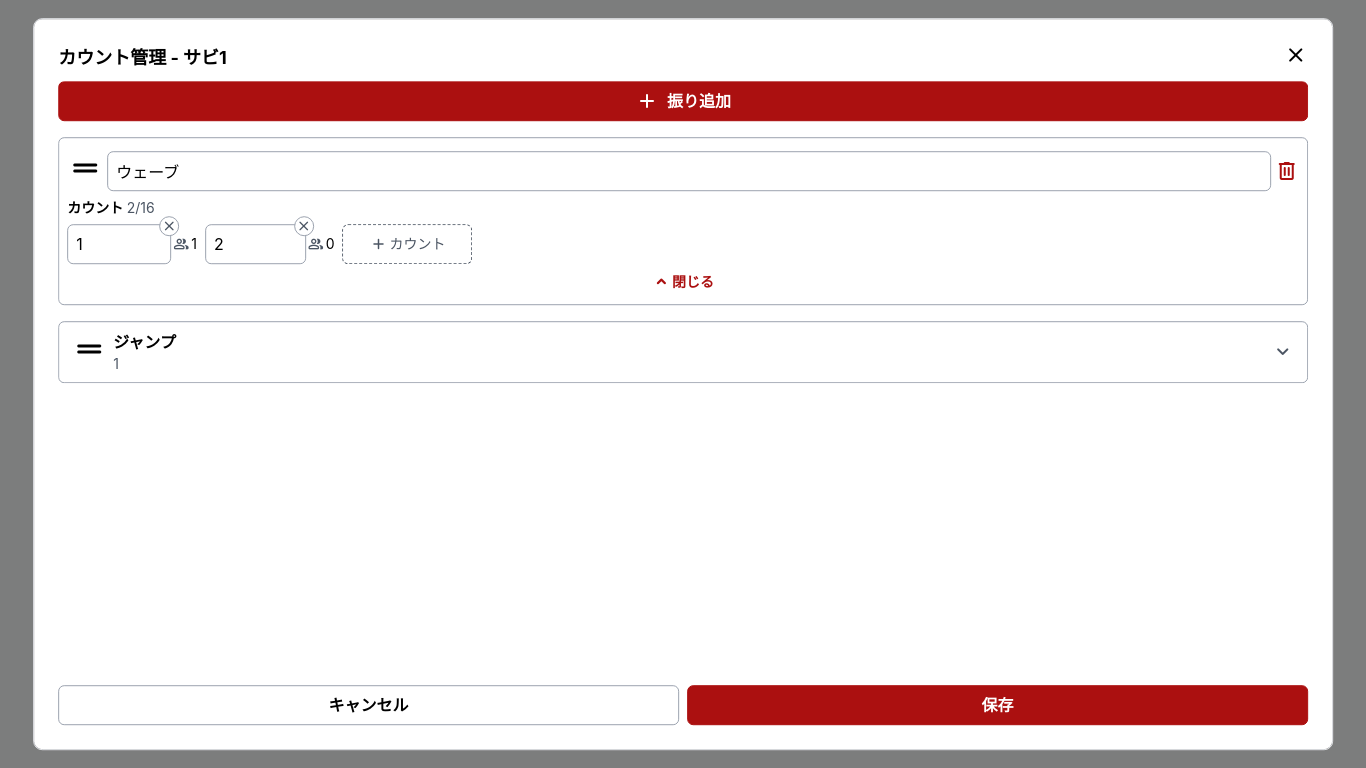
it: ActionManagerDialog count patterns › fills the counts from a pattern, and the patterns go away
Click the button "振り追加" at (683, 101), box [58,81,1308,121]
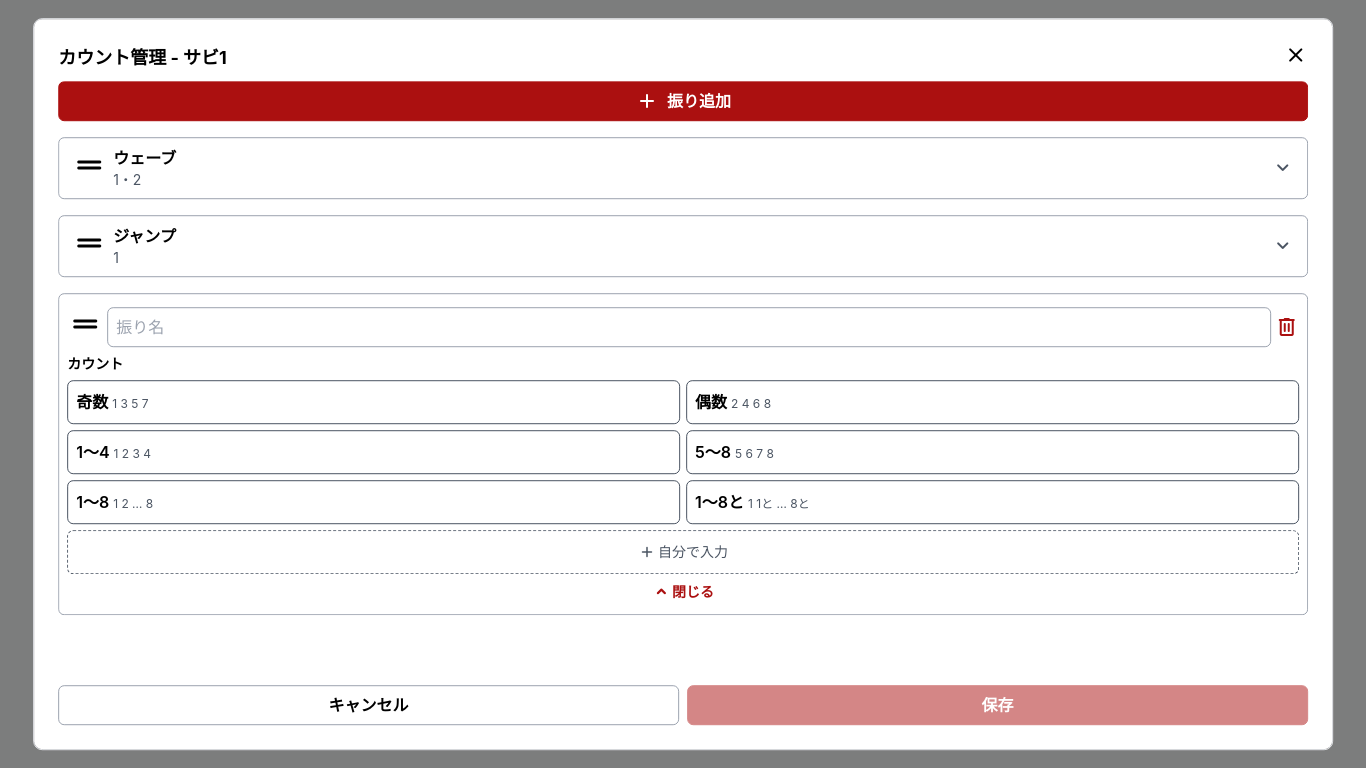
Click the button with aria-label "奇数:" at (92, 402), box [67,380,680,424]
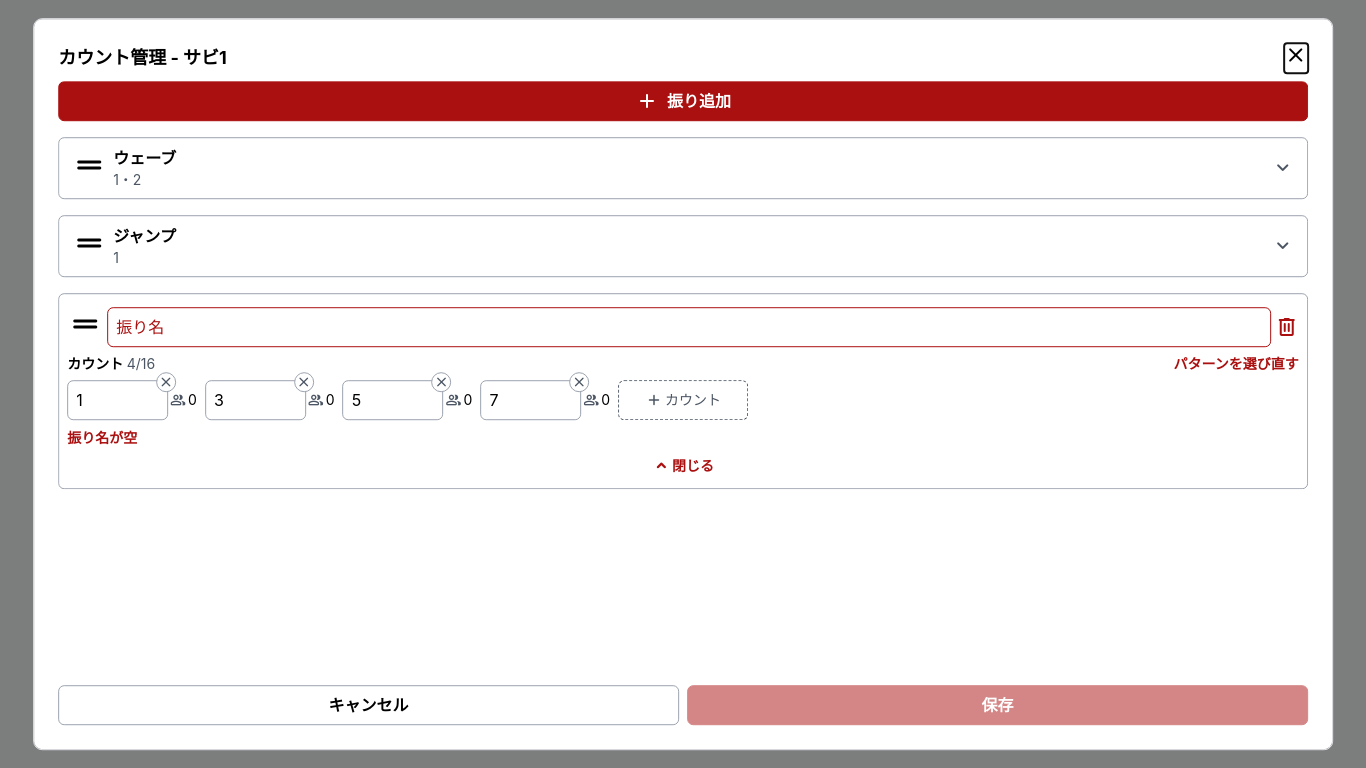
Now the button "カウント" is shown, box [618,380,748,420]
